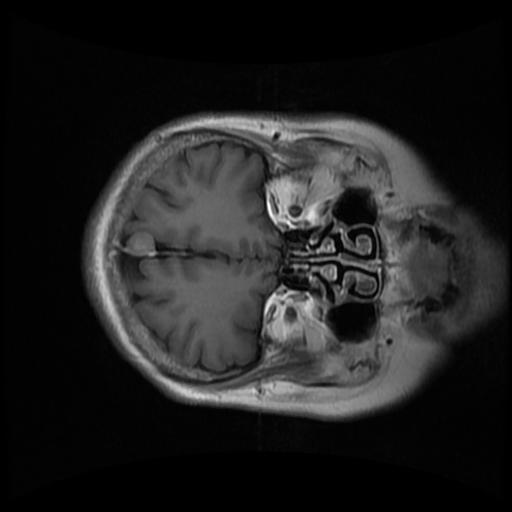meningioma: (126, 232, 156, 257)
